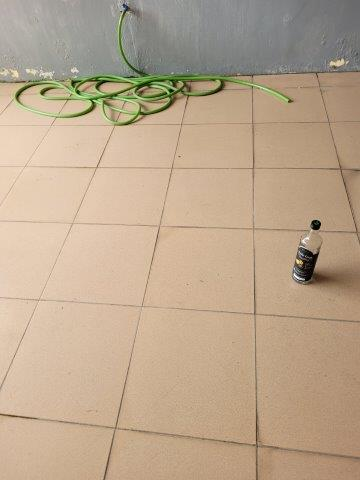botolkaca: (291, 220, 324, 285)
